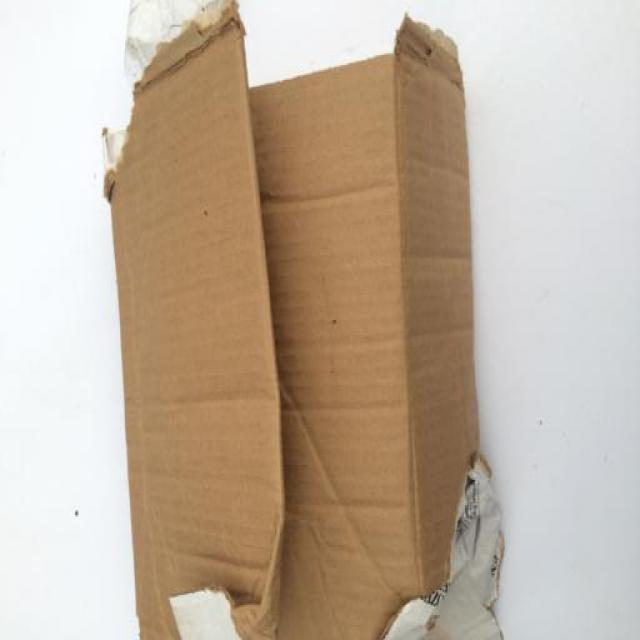cardboard: (97, 12, 511, 640)
